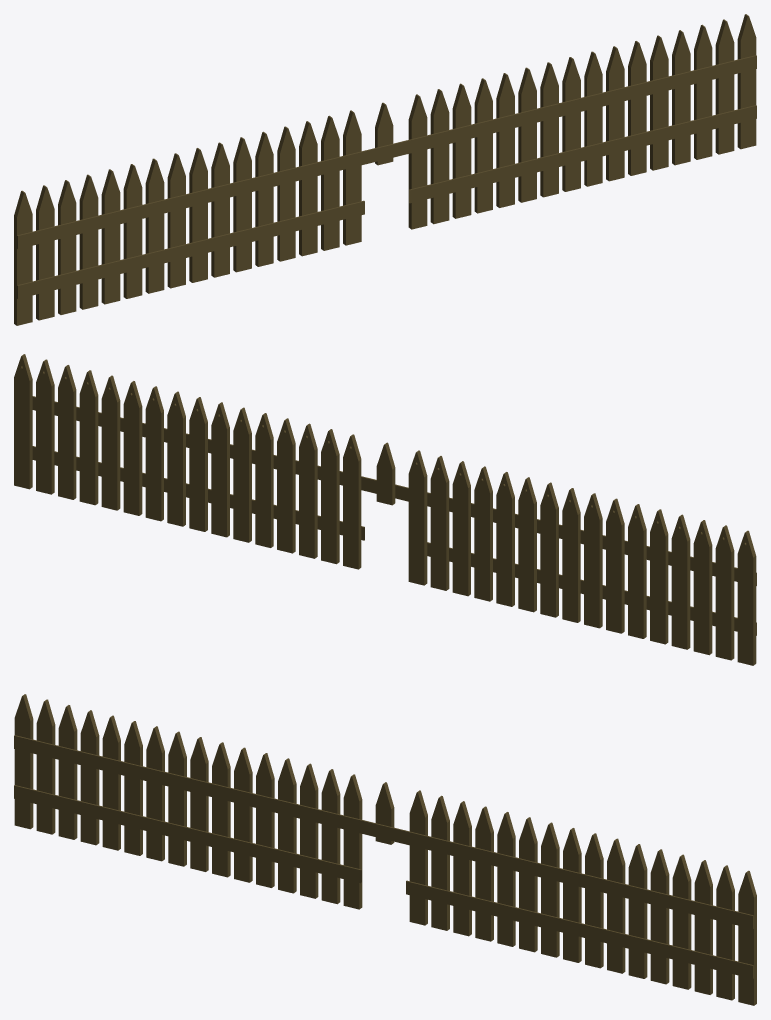
File: Staccionata.fbx
3 views of the same model, one above another, from view 1: azimuth 30°, elevation 25°; view 2: azimuth 150°, elevation 25°; view 3: azimuth 330°, elevation 25° (orthographic).
Visible parts, largest first — view 1: Fence.008; view 2: Fence.008; view 3: Fence.008.
Part boxes in pixels (x1,y1,x2,y2): Fence.008: [14, 14, 756, 325]; Fence.008: [14, 354, 756, 665]; Fence.008: [14, 694, 756, 1005].
Bounding box in the file's own units: 2360 × 400 × 24.81.
